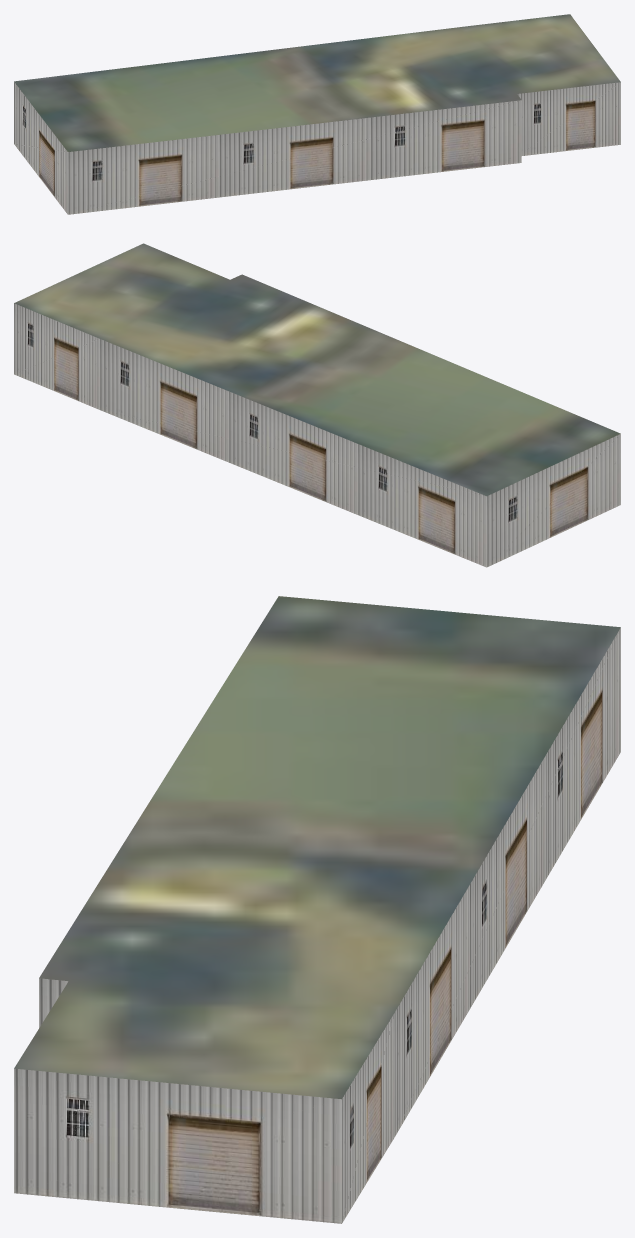
Rendered from T_1T6044NVNL.dae.
3 renders of one model, top to bottom at view 1: azimuth 30°, elevation 25°; view 2: azimuth 150°, elevation 25°; view 3: azimuth 270°, elevation 25°, orthographic. The views are drawn at different scales.
Parts seen in each view (by area): view 1: SketchUp (×2); view 2: SketchUp (×2); view 3: SketchUp (×2).
Part boxes in pixels (x1,y1,x2,y2): SketchUp (×2): (14,14,620,214); SketchUp (×2): (14,243,620,567); SketchUp (×2): (14,596,620,1223).
Size of what is drawn, in the model's own units: 1125 by 574 by 130.
2 materials, 2 textured.
